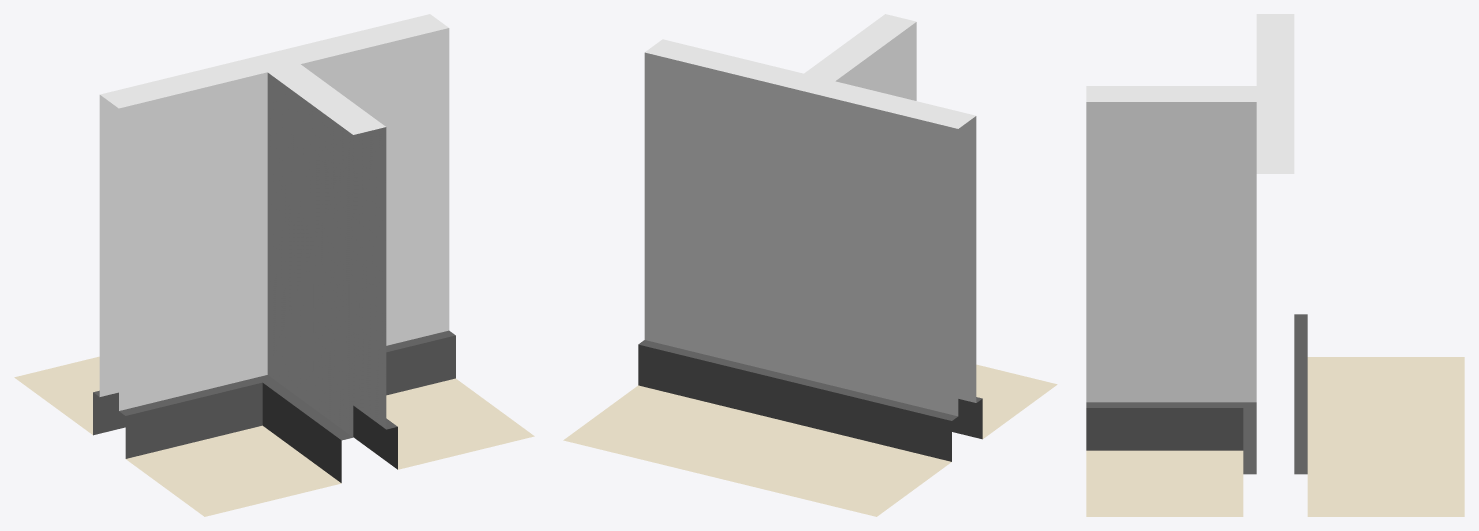
File: I_Wall_T_Shape.fbx
3 views of the same model, side by side, from view 1: azimuth 30°, elevation 25°; view 2: azimuth 150°, elevation 25°; view 3: azimuth 270°, elevation 25° (orthographic). The views are drawn at different scales.
Parts seen in each view (by area): view 1: I_Wall_T_Shape; view 2: I_Wall_T_Shape; view 3: I_Wall_T_Shape.
Boxes of the visible parts, x1,y1,x2,y2 form: I_Wall_T_Shape: (14,14,534,516); I_Wall_T_Shape: (563,14,1057,516); I_Wall_T_Shape: (1086,14,1464,516).
Size of the model in its own units: 200 by 200 by 200.
